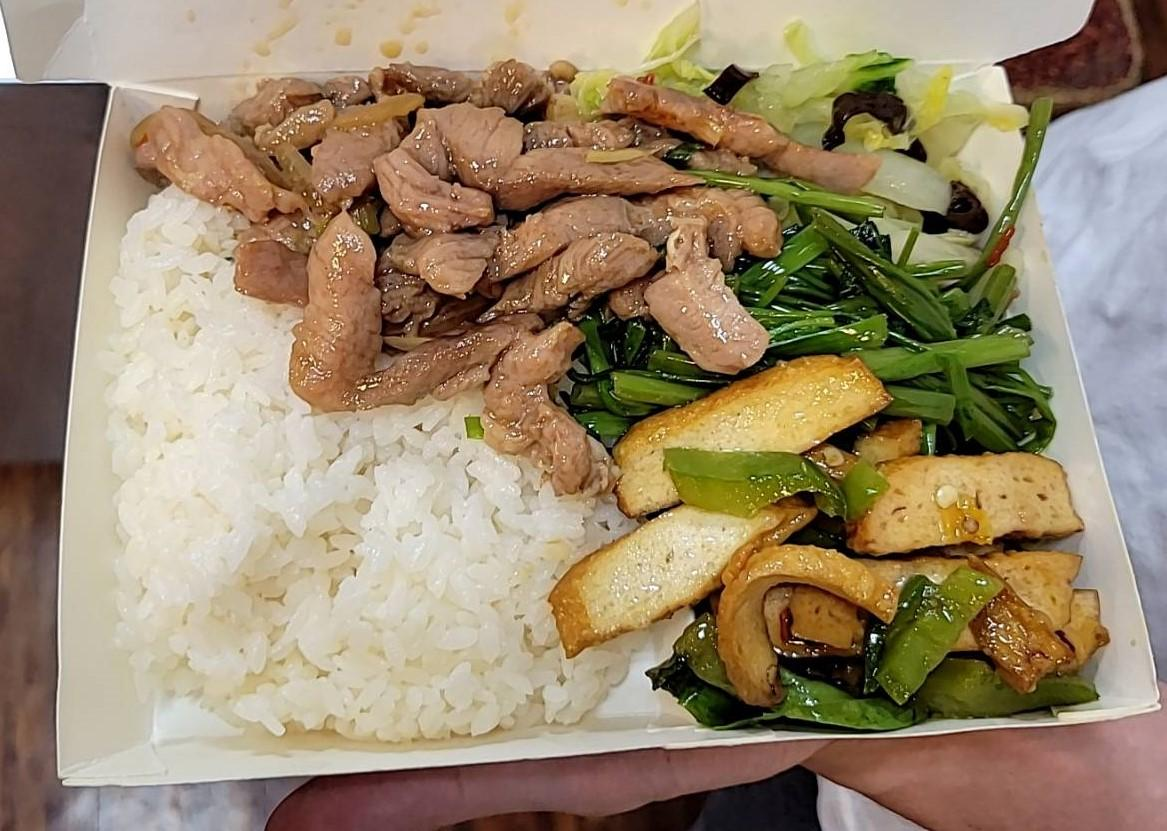big grilled chicken leg: (12, 48, 1167, 803)
big herbal chicken leg: (110, 188, 647, 743)
braised fish fillet: (572, 354, 1119, 725), (572, 256, 1048, 461), (652, 60, 998, 229)
braised pork: (136, 72, 777, 391)
